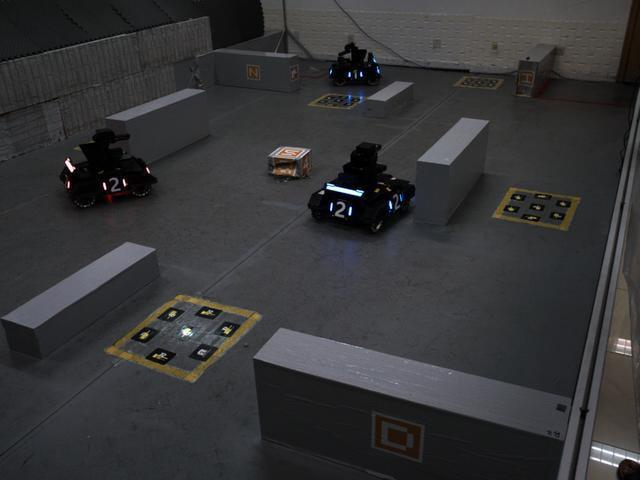armor: (94, 168, 132, 196), (325, 195, 356, 224), (384, 188, 407, 217), (344, 66, 367, 85)
